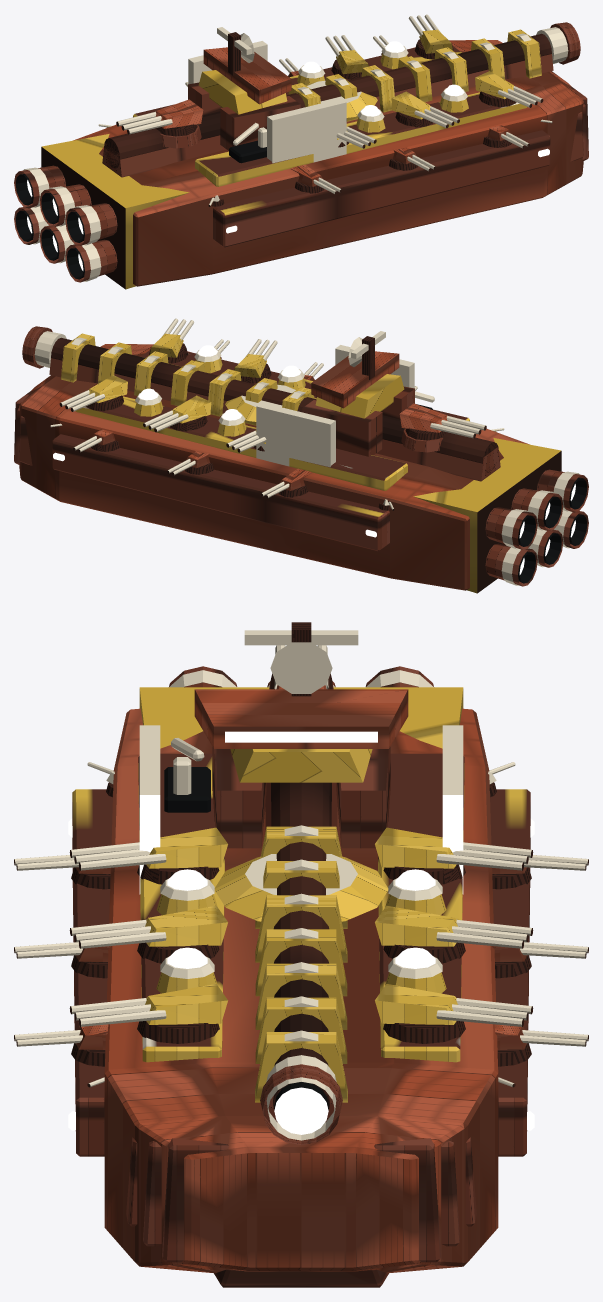
File: battleship.glb
3 views of the same model, one above another, from view 1: azimuth 30°, elevation 25°; view 2: azimuth 150°, elevation 25°; view 3: azimuth 270°, elevation 25° (orthographic). The views are drawn at different scales.
Visible parts, largest first — view 1: hull_body, weapon_mounts, engine_block, sensor_tower, shield_domes; view 2: hull_body, weapon_mounts, engine_block, sensor_tower, shield_domes; view 3: hull_body, weapon_mounts, sensor_tower, shield_domes, engine_block.
Boxes of the visible parts, box(x1,y1,x2,y2) form: hull_body: box(73, 40, 588, 286); weapon_mounts: box(98, 14, 580, 206); engine_block: box(14, 134, 189, 289); sensor_tower: box(188, 27, 300, 150); shield_domes: box(297, 41, 468, 132); hull_body: box(14, 344, 529, 590); weapon_mounts: box(22, 318, 504, 510); engine_block: box(413, 438, 588, 593); sensor_tower: box(302, 331, 414, 456); shield_domes: box(134, 345, 305, 436); hull_body: box(68, 708, 534, 1287); weapon_mounts: box(14, 645, 588, 1144); sensor_tower: box(194, 622, 408, 848); shield_domes: box(156, 869, 446, 993); engine_block: box(139, 666, 463, 748).
Size of the model in its own units: 60 by 21.28 by 29.85.
1 material, 1 textured.
